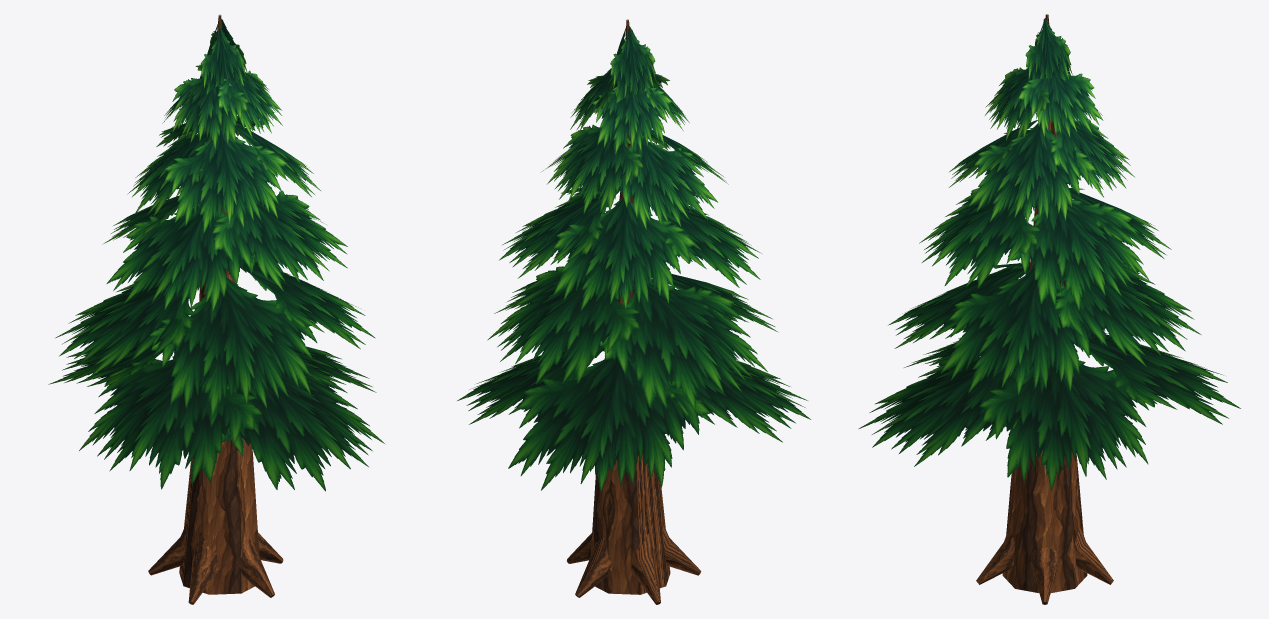
3 renders of one model, left to right at view 1: azimuth 30°, elevation 25°; view 2: azimuth 150°, elevation 25°; view 3: azimuth 270°, elevation 25°, orthographic.
Parts seen in each view (by area): view 1: Tapered harvest trunk; view 2: Tapered harvest trunk; view 3: Tapered harvest trunk.
Boxes of the visible parts, <box> form: Tapered harvest trunk: <box>48,14,384,604</box>; Tapered harvest trunk: <box>457,19,810,604</box>; Tapered harvest trunk: <box>858,14,1240,604</box>.
Size of the model in its own units: 7.11 by 11.42 by 7.55.
Materials: 3 (2 with a texture image).
